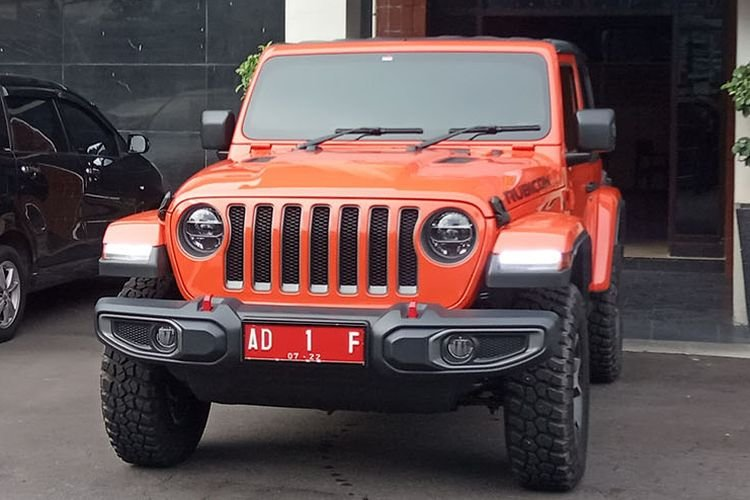mobil: (87, 35, 623, 457)
